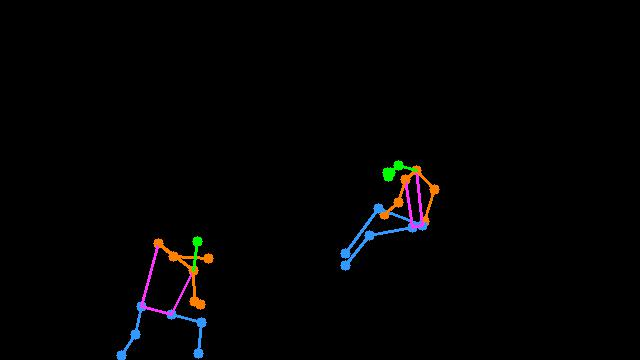normal: (105, 226, 220, 360), (332, 144, 440, 281)
